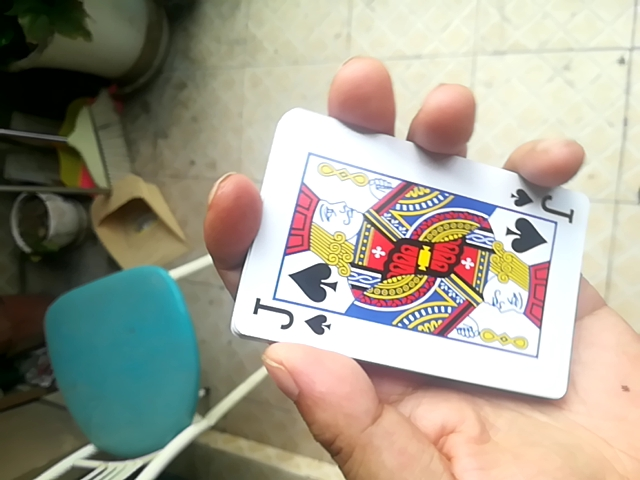ht j: (221, 110, 590, 409)
